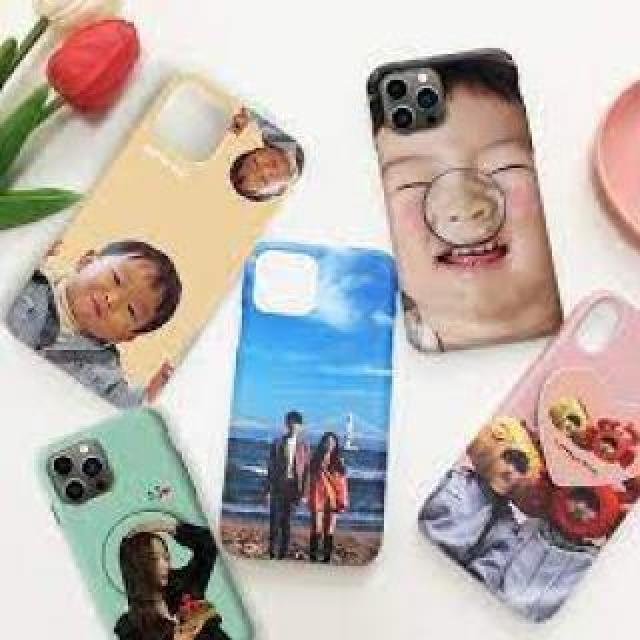smart phone: (376, 52, 566, 373), (30, 396, 244, 640)
